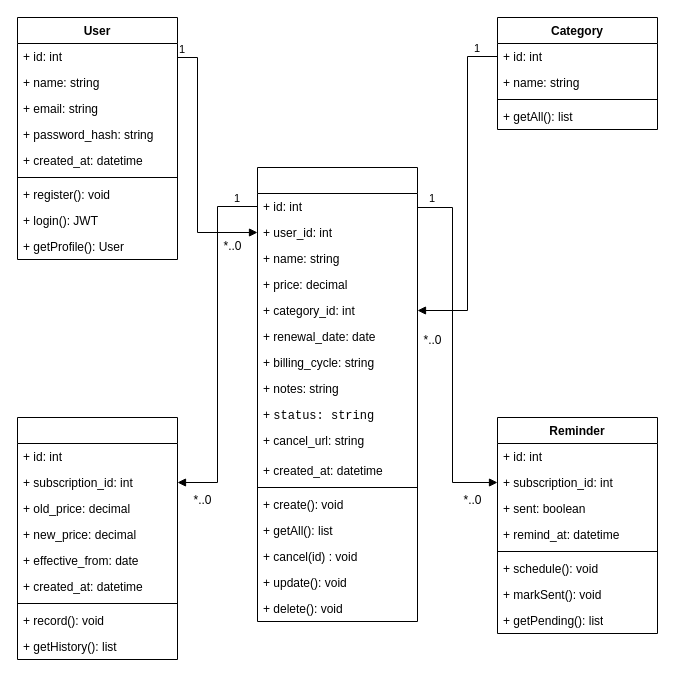
This 675x680 diagram has some shape labels left out. Here are the shapes that lost their labels. From the top down, the box of each, then its label:
(256, 166, 418, 622): Subscriptions
(16, 416, 178, 660): PriceHistory
